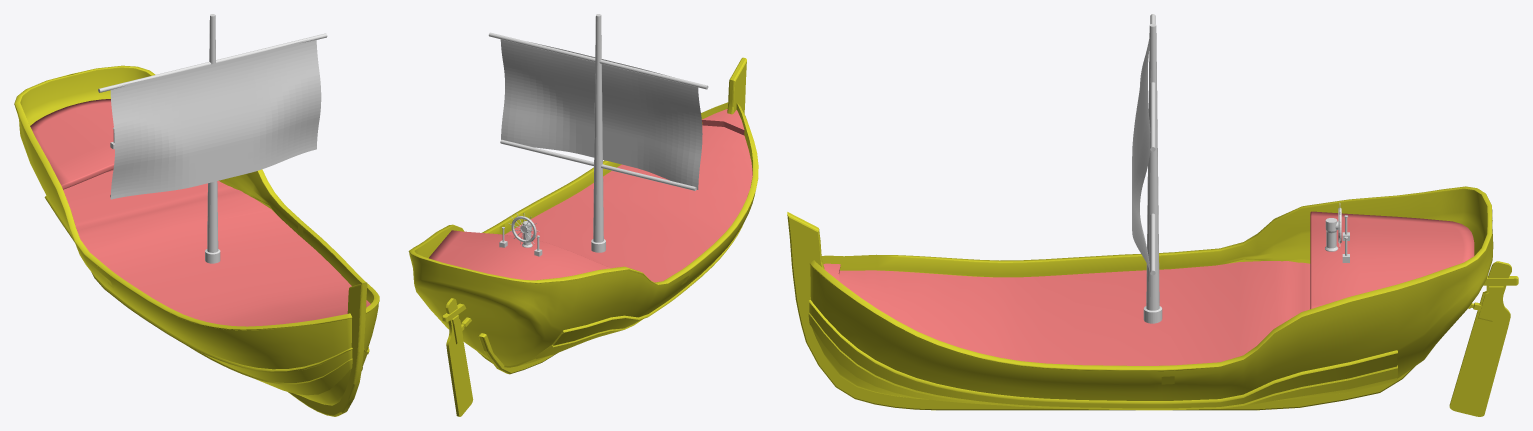
File: boat.fbx
3 views of the same model, side by side, from view 1: azimuth 30°, elevation 25°; view 2: azimuth 150°, elevation 25°; view 3: azimuth 270°, elevation 25° (orthographic). The views are drawn at different scales.
Parts seen in each view (by area): view 1: PoopDeck_lo, Maszt, Hull_lo, UpperDeck_lo, Keel; view 2: Maszt, Hull_lo, PoopDeck_lo, UpperDeck_lo, Rudder, Keel, Cylinder.001; view 3: Hull_lo, PoopDeck_lo, UpperDeck_lo, Keel, Maszt, Rudder.
Boxes of the visible parts, left/top/right/bottom form: PoopDeck_lo: left=63, top=171, right=370, bottom=326; Maszt: left=98, top=14, right=327, bottom=263; Hull_lo: left=14, top=65, right=379, bottom=405; UpperDeck_lo: left=30, top=99, right=114, bottom=189; Keel: left=288, top=282, right=367, bottom=416; Maszt: left=488, top=14, right=708, bottom=252; Hull_lo: left=408, top=102, right=758, bottom=367; PoopDeck_lo: left=505, top=109, right=752, bottom=282; UpperDeck_lo: left=429, top=230, right=610, bottom=280; Rudder: left=442, top=298, right=473, bottom=416; Keel: left=478, top=57, right=746, bottom=374; Cylinder.001: left=508, top=213, right=539, bottom=245; Hull_lo: left=808, top=186, right=1493, bottom=410; PoopDeck_lo: left=823, top=261, right=1310, bottom=365; UpperDeck_lo: left=1310, top=211, right=1474, bottom=309; Keel: left=787, top=212, right=1414, bottom=410; Maszt: left=1132, top=14, right=1162, bottom=323; Rudder: left=1449, top=261, right=1518, bottom=416.
Bounding box in the file's own units: 8424 × 11391 × 19571.
